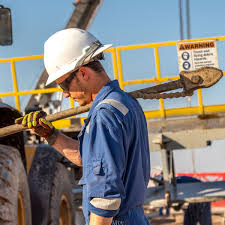Person_wearing_helmet: (38, 23, 112, 92)
